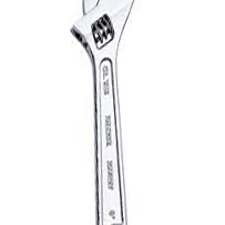Wrench: (55, 1, 161, 224)
